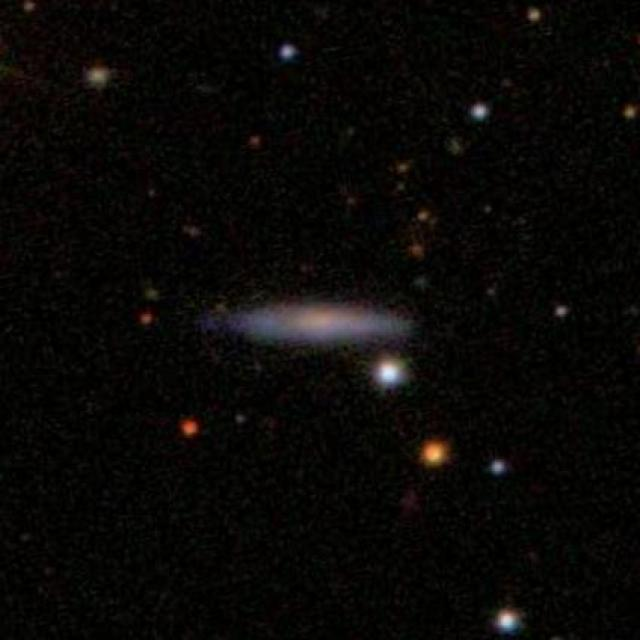galaxy: (191, 280, 422, 354), (361, 347, 419, 403), (416, 436, 456, 473), (441, 129, 473, 164), (82, 62, 115, 93), (467, 97, 493, 132), (275, 38, 303, 68), (400, 240, 431, 267), (493, 607, 524, 633), (413, 208, 438, 229), (521, 3, 543, 26), (183, 224, 206, 243), (619, 104, 639, 124), (182, 418, 202, 438), (478, 282, 499, 301), (552, 301, 571, 321), (491, 458, 510, 477), (144, 186, 162, 205), (394, 160, 414, 177), (137, 309, 155, 327), (344, 121, 358, 143), (343, 195, 361, 212), (248, 135, 267, 151), (479, 202, 496, 218), (23, 1, 39, 17), (234, 410, 248, 427), (144, 286, 160, 300)
